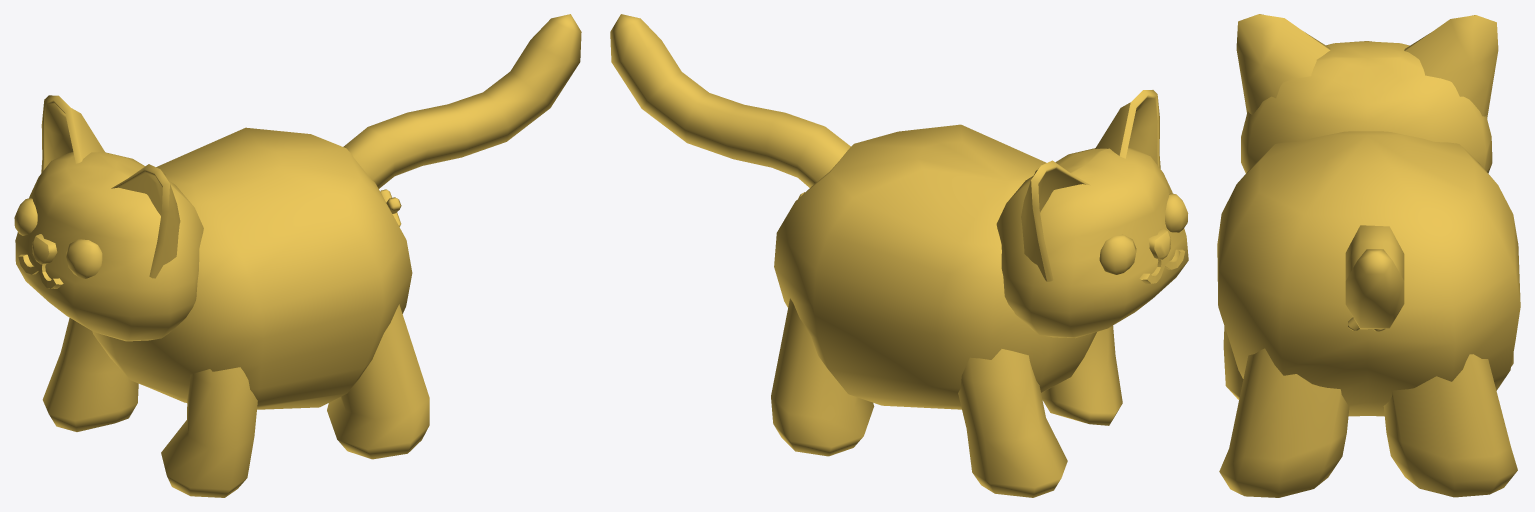
File: Cat.fbx
3 views of the same model, side by side, from view 1: azimuth 30°, elevation 25°; view 2: azimuth 150°, elevation 25°; view 3: azimuth 270°, elevation 25° (orthographic). The views are drawn at different scales.
Parts seen in each view (by area): view 1: Body, Mouth; view 2: Body, Mouth; view 3: Body.
Boxes of the visible parts, x1=… form: Body: x1=15, y1=14, x2=581, y2=497; Mouth: x1=14, y1=198, x2=102, y2=288; Body: x1=610, y1=14, x2=1188, y2=497; Mouth: x1=1099, y1=193, x2=1188, y2=284; Body: x1=1217, y1=14, x2=1520, y2=497.
Bounding box in the file's own units: 152 × 90.93 × 68.67.
